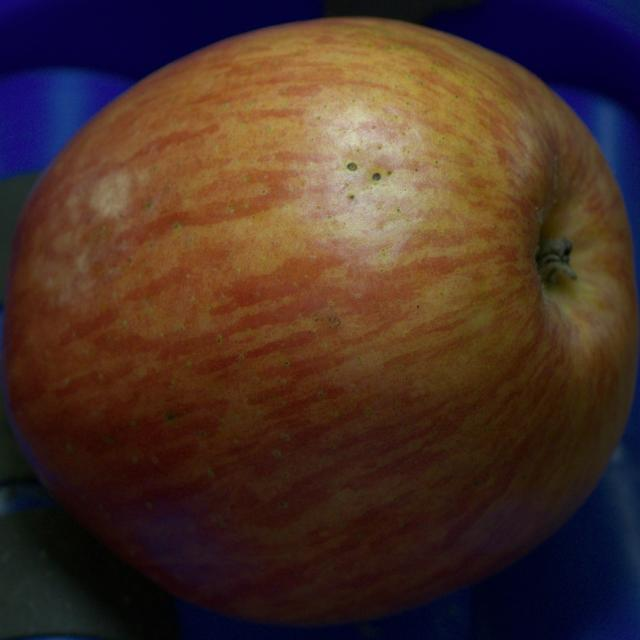apple: (2, 18, 639, 626)
pest: (347, 163, 357, 170), (372, 173, 380, 179)
